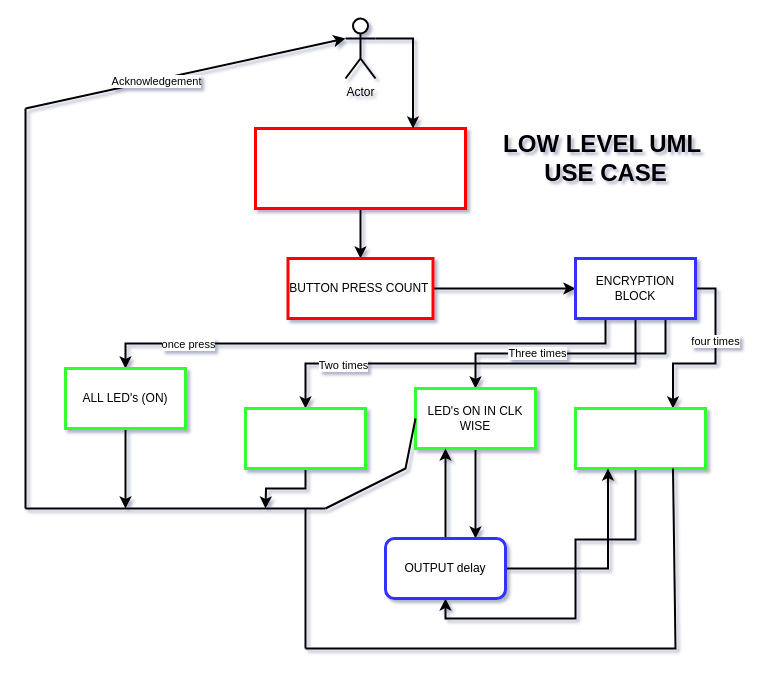
The diagram is 762 pixels wide and 673 high, and some of its shapes have lost their labels. The box of each missing label's shape, as (x1, y1, x2, y2) in pixels:
ALL LED's (OFF): (244, 406, 366, 470)
INPUT FROM THE USER i.e blue button press: (254, 126, 466, 210)
LED's ON IN ANTI-CLK WISE: (574, 406, 706, 470)
